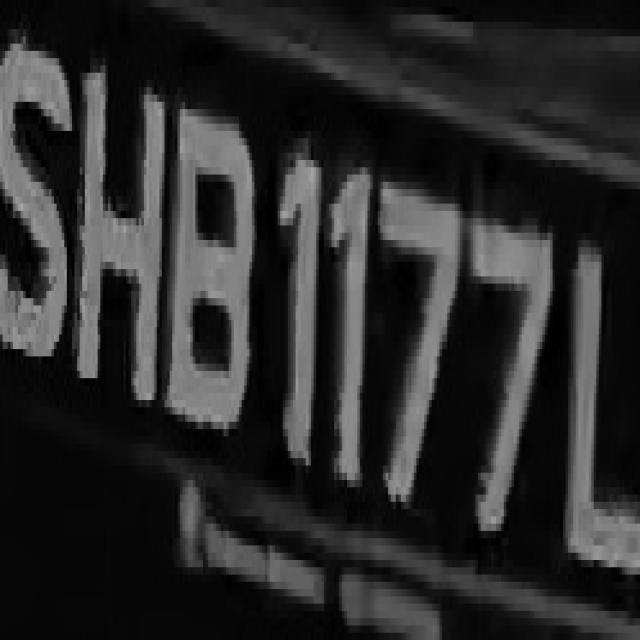1: (334, 109, 375, 538), (278, 131, 326, 480)
7: (450, 182, 547, 553), (372, 160, 458, 560)
B: (172, 87, 252, 451)
H: (72, 58, 167, 422)
L: (550, 254, 640, 604)
S: (0, 29, 75, 378)
